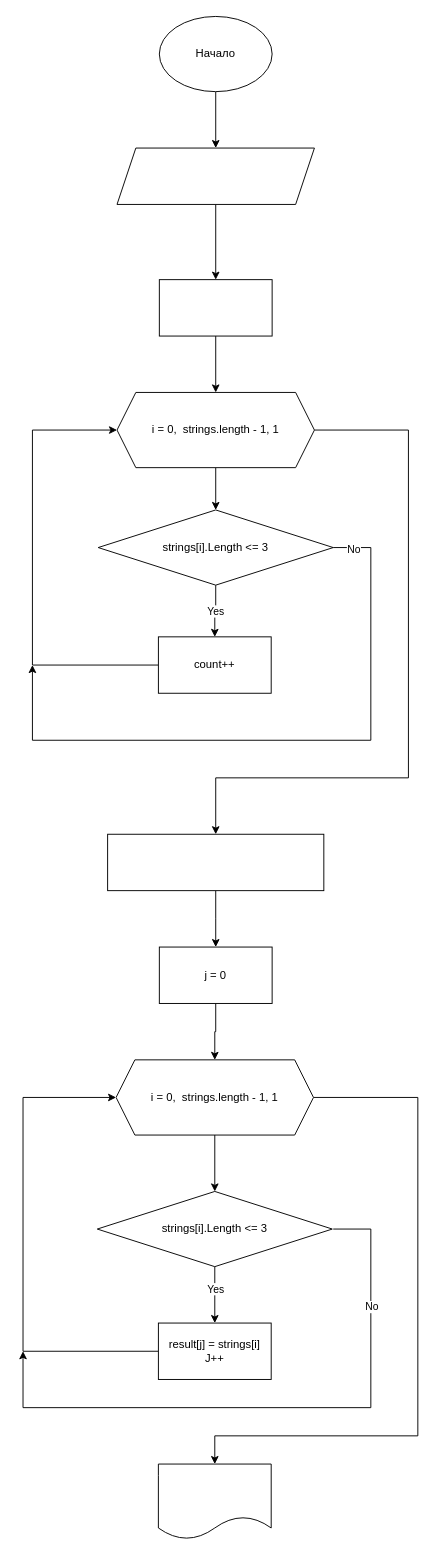
This 442x1556 diagram has some shape labels left out. The centre of each missing label's shape, as x and y in pixels:
"count = 0" belongs at [215,307].
"result" belongs at [214,1501].
"result = new string[count]" belongs at [215,862].
"strings = [string 1 , ... , string n ]" belongs at [215,175].
